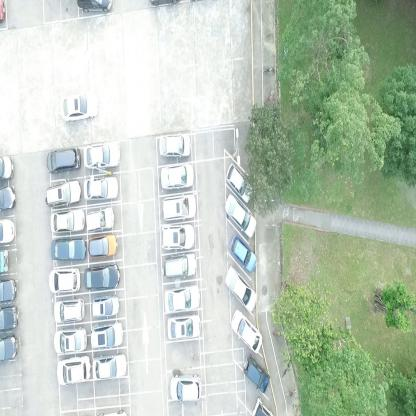car: (222, 264, 258, 313), (223, 192, 257, 239), (228, 308, 264, 352), (223, 160, 252, 204), (58, 93, 99, 123), (165, 283, 202, 316), (229, 232, 258, 274), (44, 179, 82, 210), (242, 352, 270, 394), (168, 371, 202, 404), (83, 263, 122, 291), (90, 319, 124, 351), (46, 145, 82, 175), (161, 252, 197, 281), (92, 352, 128, 381), (56, 356, 92, 385), (166, 312, 201, 341), (160, 194, 196, 222), (159, 224, 195, 252), (82, 175, 119, 202), (82, 143, 120, 169), (48, 266, 83, 294), (50, 207, 86, 234), (53, 327, 89, 354), (50, 236, 87, 262), (160, 162, 194, 189), (157, 133, 192, 159), (54, 297, 86, 325), (87, 232, 119, 259), (86, 206, 115, 233), (92, 295, 121, 320), (0, 332, 19, 362), (0, 301, 19, 331), (78, 0, 112, 16), (0, 216, 16, 246), (0, 184, 16, 212), (252, 395, 274, 415), (0, 152, 14, 182), (0, 278, 16, 304)
